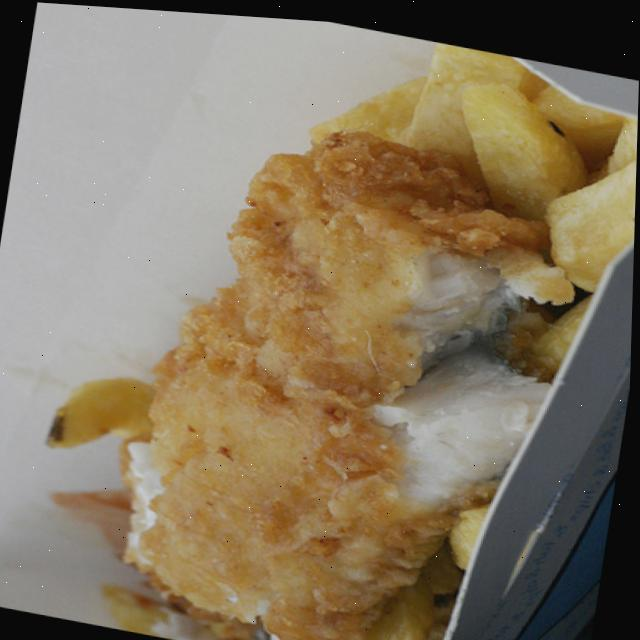炸货点心: (107, 64, 602, 640)
熟制海鲜: (107, 64, 602, 640)
